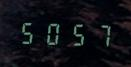five: (18, 18, 40, 46), (64, 19, 86, 47)
seven: (87, 20, 109, 48)
zero: (41, 19, 63, 46)
